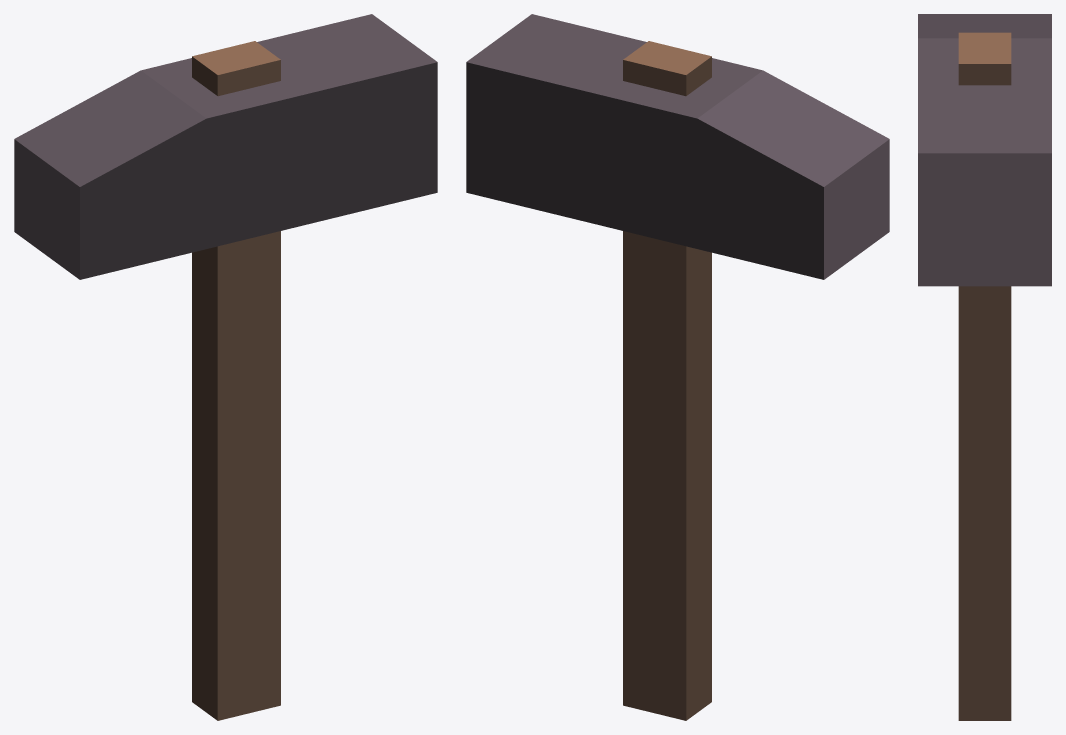
Rendered from TB_Prop_Hammer.FBX.
The picture shows the model from 3 angles, left to right: view 1: azimuth 30°, elevation 25°; view 2: azimuth 150°, elevation 25°; view 3: azimuth 270°, elevation 25°; orthographic projection.
Visible parts, largest first — view 1: TB_Prop_Hammer; view 2: TB_Prop_Hammer; view 3: TB_Prop_Hammer.
Part boxes in pixels (left/top/right/bottom): TB_Prop_Hammer: left=14, top=14, right=437, bottom=720; TB_Prop_Hammer: left=466, top=14, right=889, bottom=720; TB_Prop_Hammer: left=918, top=14, right=1051, bottom=720.
Size of the model in its own units: 0.2982 by 0.5141 by 0.0949.
